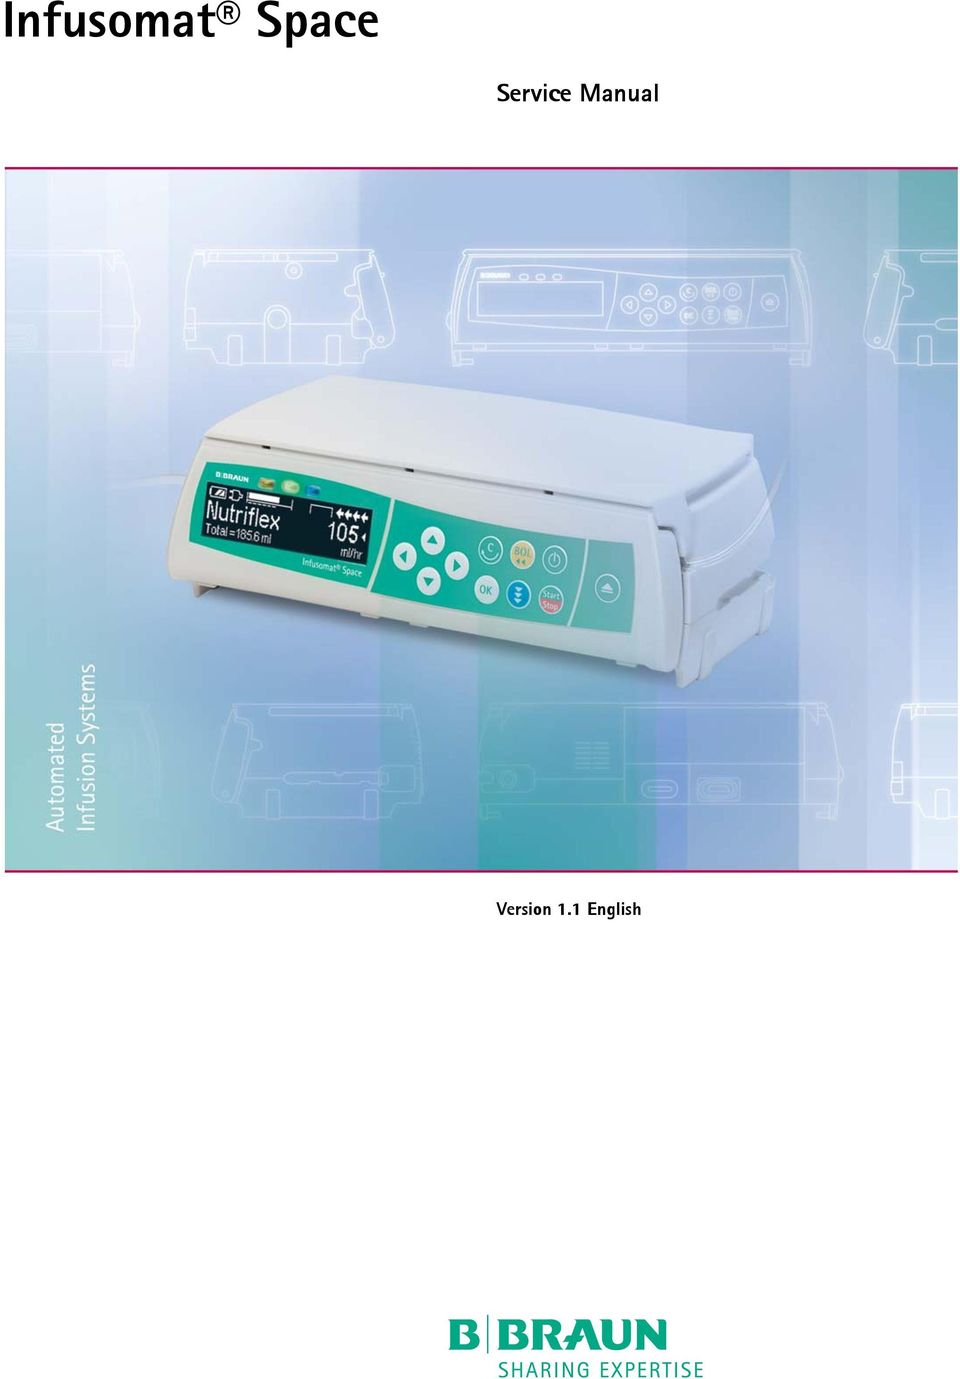BBraun Infusomat Space: (161, 360, 795, 702)
